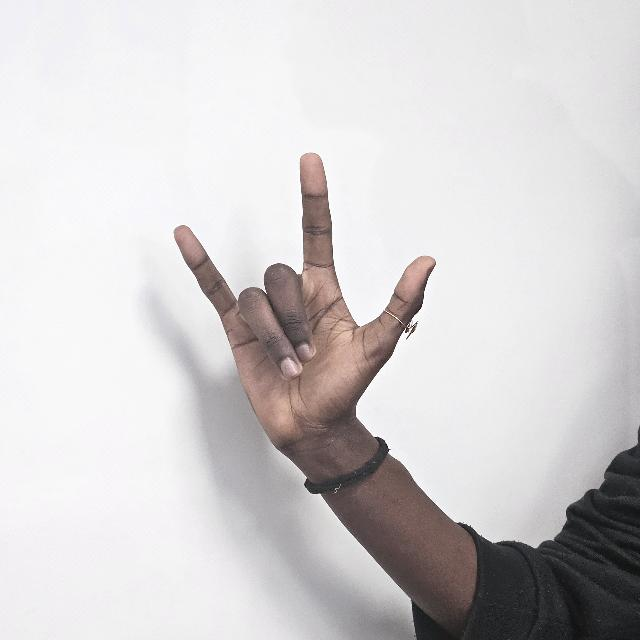Cima: (170, 150, 436, 458)
